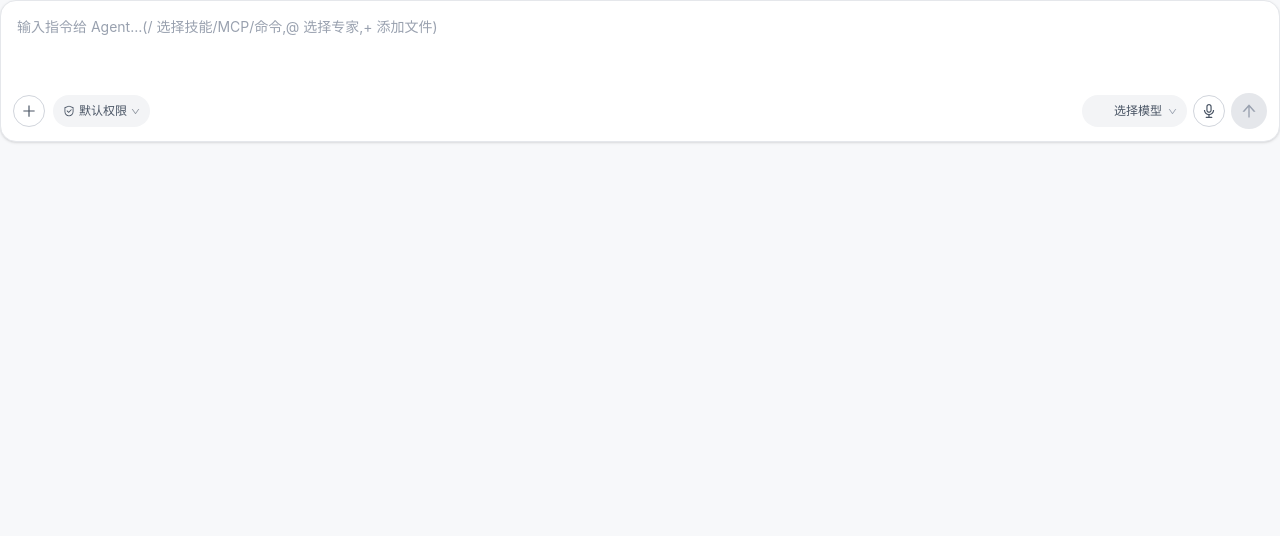
Test: AgentWorkspaceInput › 句中 / 前置空白时可唤起菜单(不再要求行首)
Type "帮我看下 /" into the text box at (640, 47), box [17,17,1263,77]
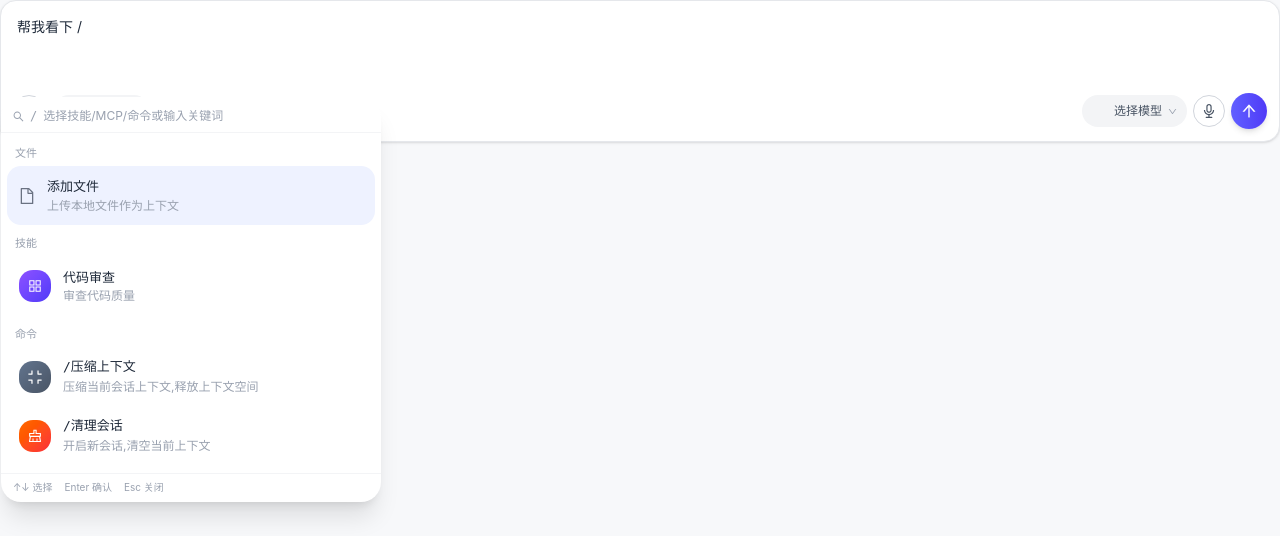
expect the text "↑↓ 选择" is shown: met, box [13,480,52,496]
